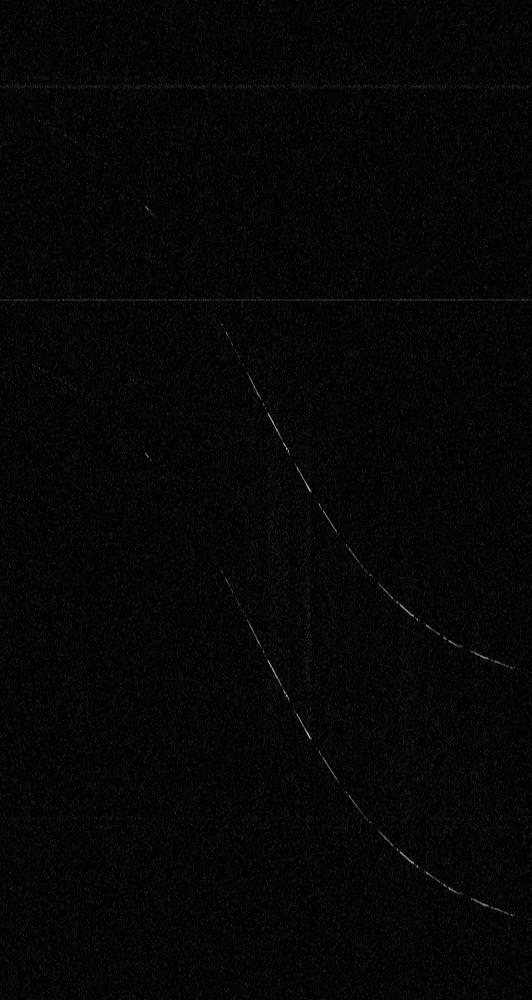signal: (0, 0, 531, 999)
